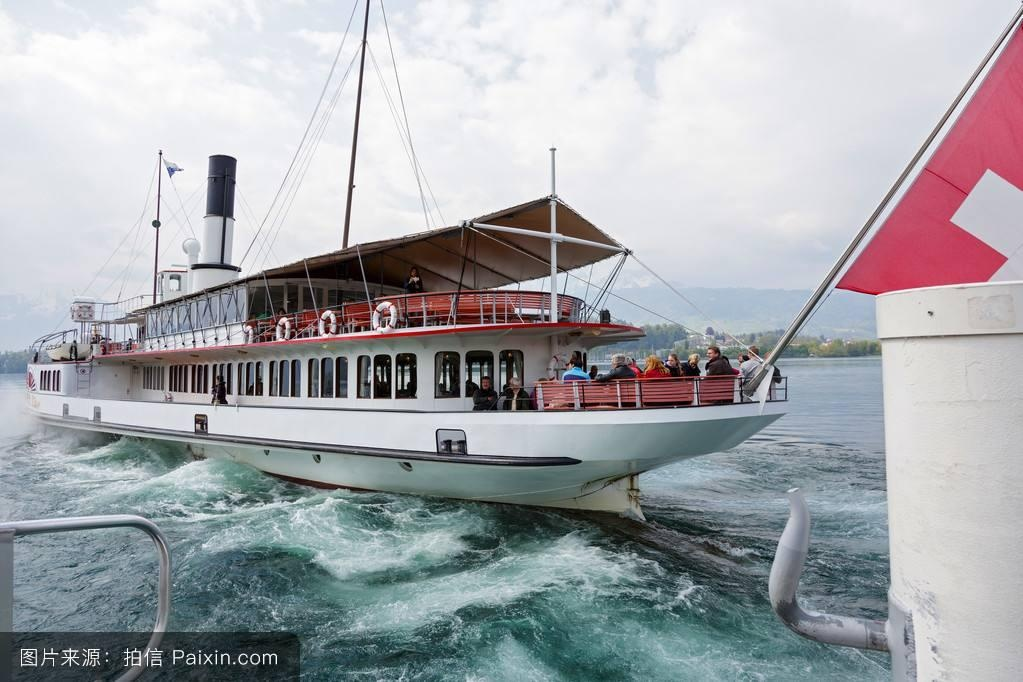youlun: (12, 146, 795, 515)
